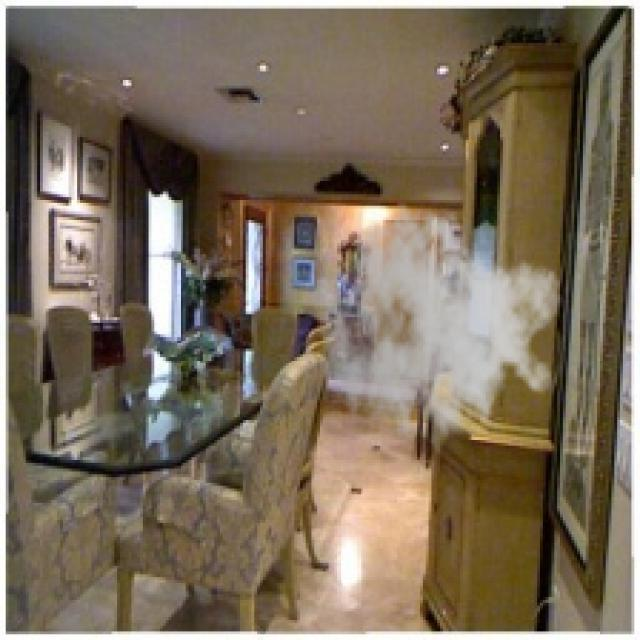Smoke: (317, 200, 563, 469)
